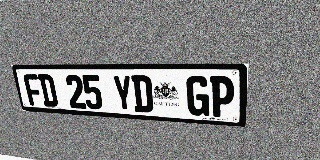2: (65, 75, 86, 109)
5: (81, 75, 104, 110)
D: (131, 75, 154, 113), (37, 74, 59, 107)
F: (23, 74, 44, 106)
G: (186, 76, 209, 116)
P: (210, 76, 235, 118)
Y: (112, 75, 134, 112)
